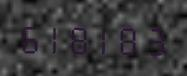eight: (68, 19, 92, 55), (118, 20, 142, 56)
one: (93, 19, 117, 56), (42, 19, 66, 55)
six: (17, 18, 41, 55)
three: (143, 20, 167, 57)
